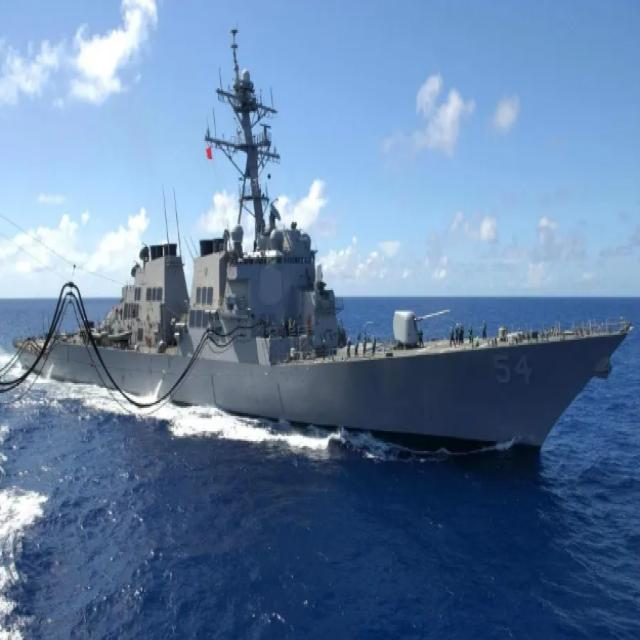navalvessels: (13, 38, 624, 470)
